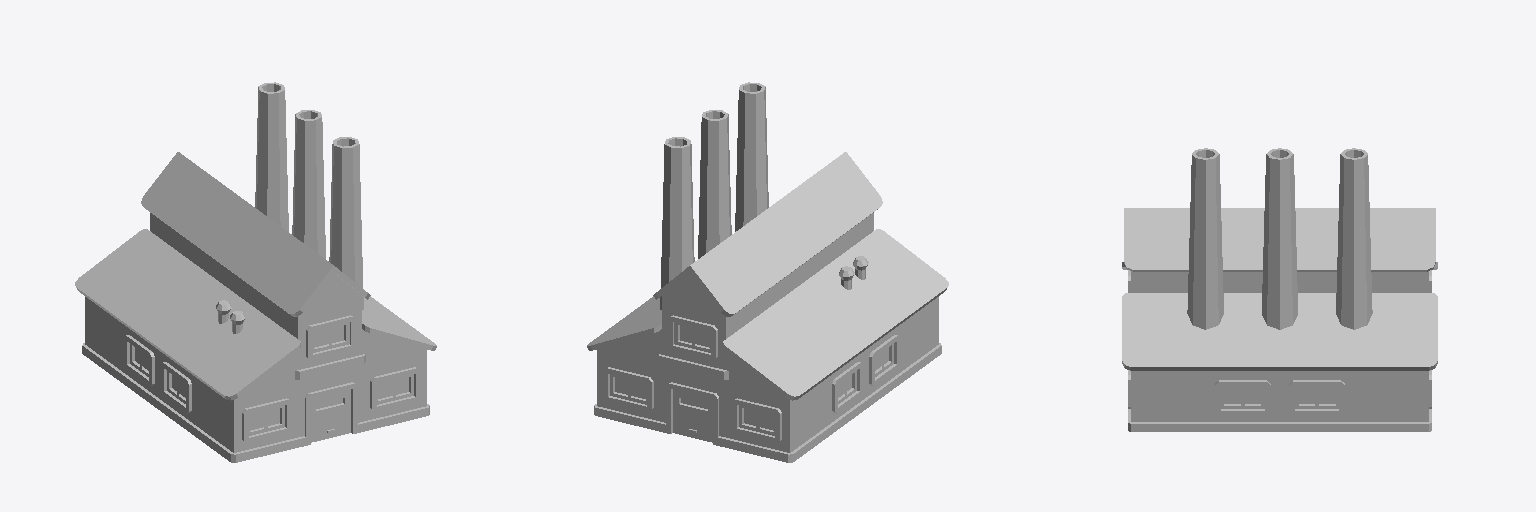
The model's file is industrial_building-m.obj.
The picture shows the model from 3 angles: view 1: azimuth 30°, elevation 25°; view 2: azimuth 150°, elevation 25°; view 3: azimuth 270°, elevation 25°; orthographic projection.
Parts seen in each view (by area): view 1: building-m; view 2: building-m; view 3: building-m.
Boxes of the visible parts, <box> form: building-m: <box>75,82,436,462</box>; building-m: <box>587,82,948,462</box>; building-m: <box>1122,148,1437,431</box>.
Size of the model in its own units: 1.32 by 1.52 by 1.7.